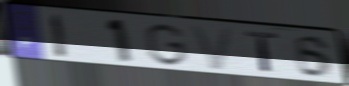1: (106, 18, 135, 64)
6: (292, 35, 336, 79)
G: (142, 22, 189, 68)
I: (50, 12, 71, 61)
T: (243, 29, 281, 75)
V: (188, 24, 236, 72)
